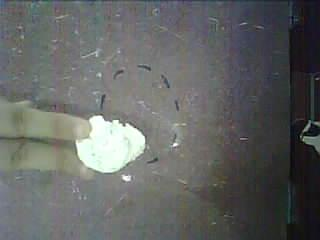paper: (76, 116, 144, 173)
